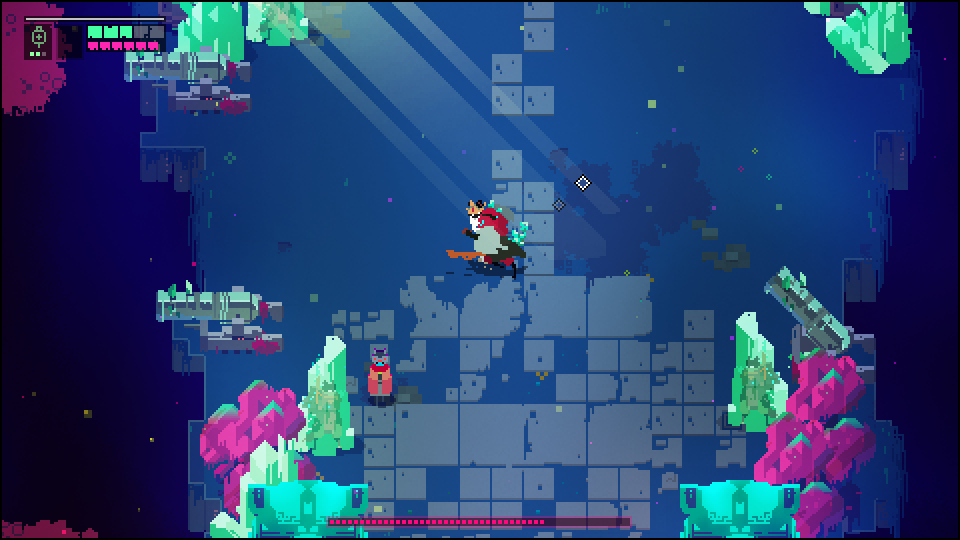hanged_man: (448, 199, 533, 272)
player: (365, 340, 394, 408)
